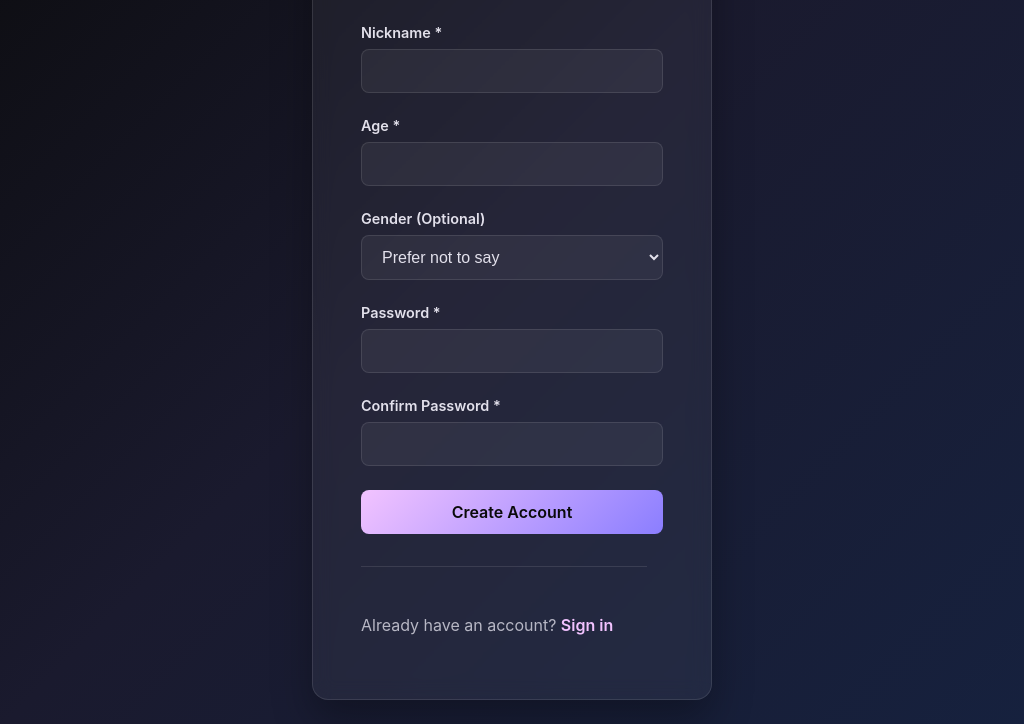
Scenario: RegisterPage › requires all mandatory fields
(page scrolled)
Step 1. Click the button "Create Account" → (512, 512), box [361, 490, 663, 534]
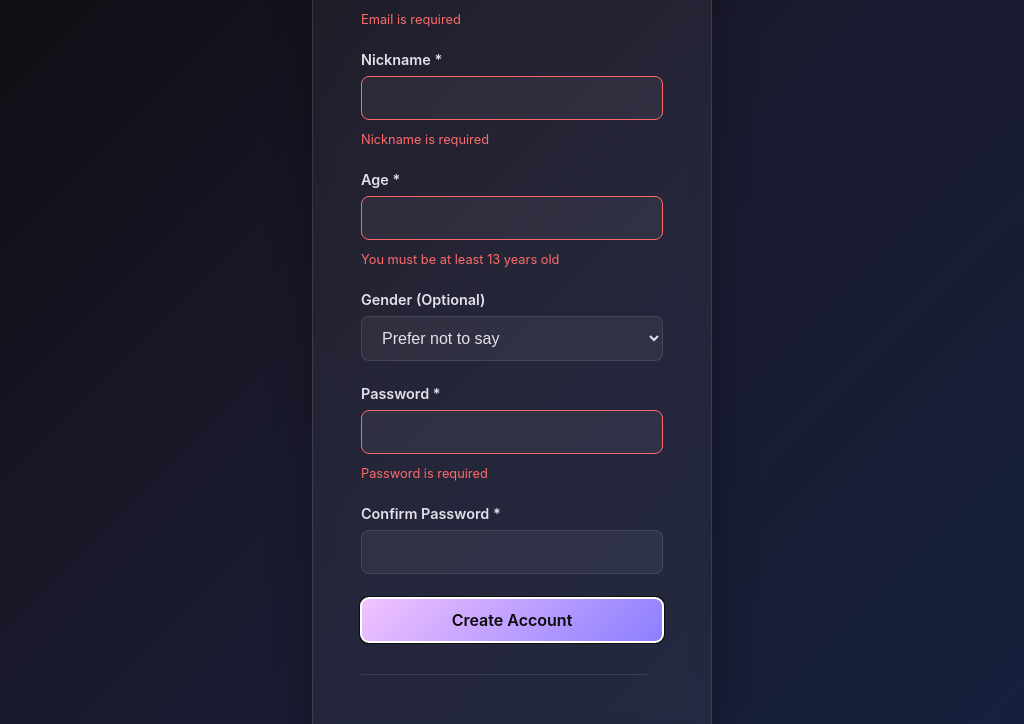
Expected: the text "Email is required" is shown, [361, 12, 461, 27]
Expected: the text "Nickname is required" is shown, [361, 132, 489, 147]
Expected: the text "You must be at least 13 years old" is shown, [361, 252, 559, 267]
